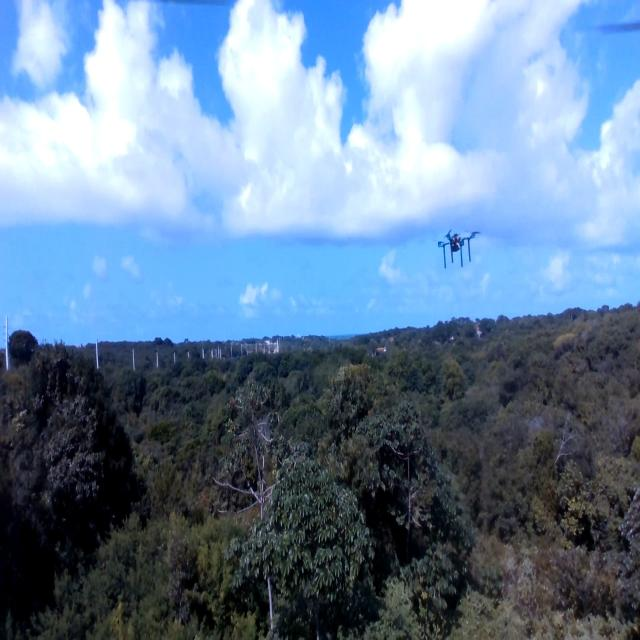-uav-: (428, 224, 484, 282)
